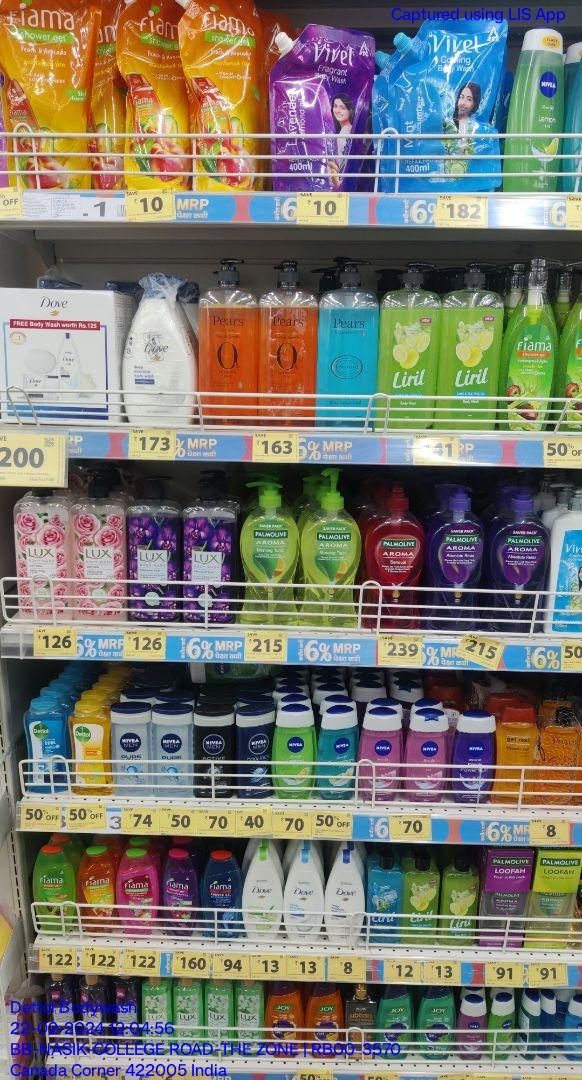Dettol_Bodywash_Cool: (24, 696, 68, 792)
Dettol_Bodywash_Refresh: (70, 700, 111, 795)
Dove_Deep_Moisture_Body_Wash_250ML: (327, 848, 365, 943)
Dove_Gentle_Exfoliating_Body_Wash_250ML: (286, 848, 324, 939)
Dove_Refreshing_Body_Wash_250ML: (243, 845, 284, 941)
Fiama_Shower_Gel_Lemongrass_and_Jojoba_250ML: (32, 845, 77, 932)
Fiama_Shower_Gel_Patchouli_and_Macadamia_250ML: (118, 847, 158, 934)
Fiama_Shower_Gel_Peach_and_Avocado_250ML: (79, 845, 116, 935)
Get_Real_Shower_Gel_Moisturising_Glycerin_300ML: (494, 702, 535, 807)
Joy_Shower_Gel_Mandarin_and_Lemongrass_250ML: (266, 980, 303, 1059), (306, 981, 343, 1059)
Joy_Shower_Gel_Mint_and_Eucalyptus_250ML: (417, 985, 456, 1062), (376, 985, 413, 1059)
Liril_Cooling_Mint_Body_Wash_250ML: (368, 849, 402, 944)
Liril_Lime_and_Tea_Tree_Oil_Body_Wash_250ML: (442, 855, 477, 943), (405, 851, 438, 944)
Lux_Black_Orchid_Scent_and_Juniper_Oil_Body_Wash_245ML: (46, 973, 77, 1045), (77, 974, 108, 1046), (111, 975, 138, 1042)
Lux_Body_Wash_Skin_Detox_Freesia_Scent_and_Alove_Vera_245ML: (142, 975, 171, 1056), (205, 977, 234, 1055), (237, 978, 264, 1057), (175, 978, 201, 1054)
Nivea_Shower_Gel_Frangipani_and_Oil_250ML: (318, 705, 355, 803)
Nivea_Shower_Gel_Fresh_Powerfruit_250ML: (452, 710, 492, 804)
Nivea_Shower_Gel_Lemon_and_Oil_250ML: (272, 703, 316, 800)
Nivea_Shower_Gel_Waterlily_and_Oil_250ML: (359, 707, 403, 802), (406, 707, 449, 803)
